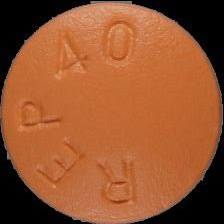16590-201: (0, 0, 224, 224)
